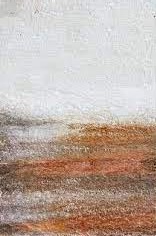Corrosion: (1, 112, 156, 236)
